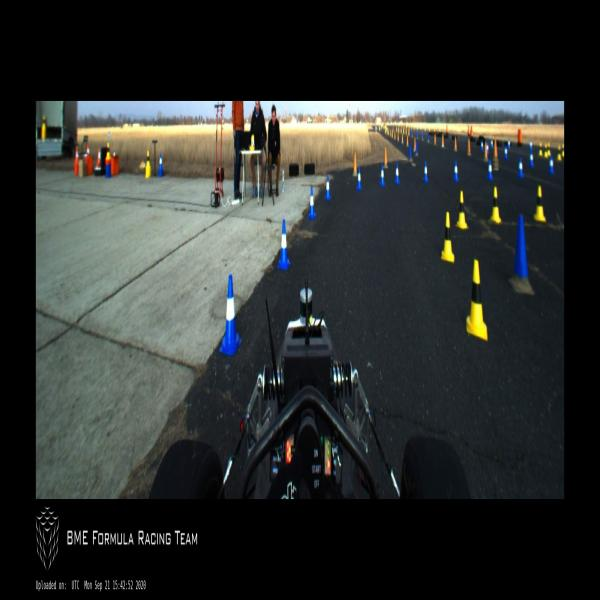blue_cone: (219, 275, 242, 356), (277, 220, 290, 269), (307, 187, 316, 218), (324, 175, 331, 201), (487, 156, 493, 182), (356, 166, 362, 190), (518, 155, 524, 178), (453, 159, 459, 181), (423, 160, 428, 183), (380, 165, 385, 187), (394, 163, 399, 183), (529, 148, 534, 167), (549, 155, 554, 173), (159, 153, 163, 171), (505, 146, 508, 159), (481, 139, 484, 152), (490, 138, 493, 150), (486, 141, 488, 154), (508, 138, 510, 148), (530, 140, 532, 150)
orange_cone: (96, 148, 102, 167), (74, 146, 79, 164), (86, 144, 90, 161)
unknown_cone: (508, 215, 534, 297), (492, 138, 498, 163), (352, 152, 358, 176), (384, 147, 388, 168), (483, 140, 487, 160), (467, 139, 471, 156), (454, 136, 458, 152), (409, 143, 412, 162), (415, 141, 418, 156), (413, 137, 416, 151), (406, 136, 409, 147), (393, 130, 396, 140), (401, 134, 404, 144), (427, 132, 430, 142), (434, 133, 436, 145), (442, 135, 444, 147), (416, 130, 418, 140), (421, 131, 423, 141), (397, 132, 399, 141)
yellow_cone: (467, 260, 488, 340), (441, 211, 455, 264), (456, 189, 469, 231), (489, 186, 501, 224), (534, 186, 546, 222), (105, 140, 111, 160), (145, 149, 151, 168), (557, 144, 562, 161), (539, 142, 543, 158), (544, 143, 548, 158), (42, 115, 46, 130), (561, 144, 564, 157), (548, 141, 550, 156)
